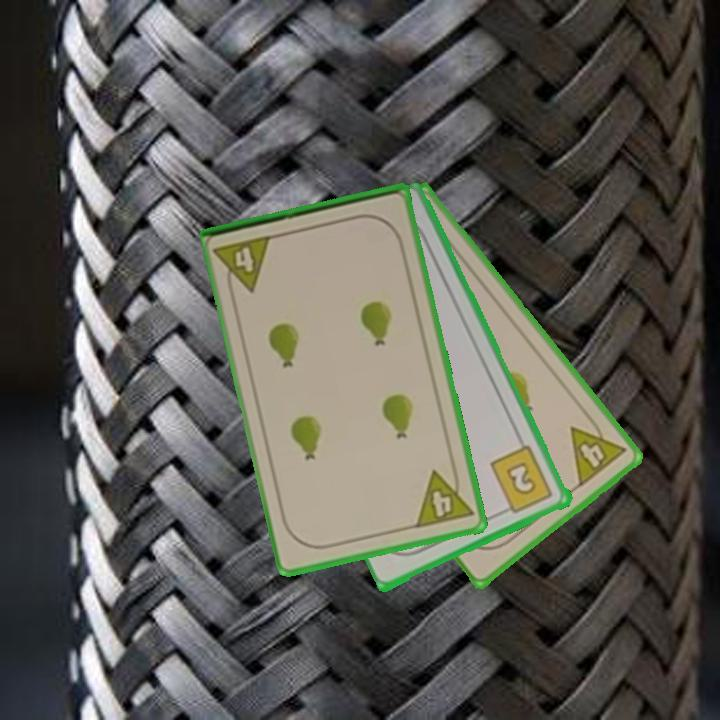2b: (487, 442, 556, 518)
4p: (566, 410, 629, 490), (412, 463, 476, 531), (212, 231, 276, 299)
